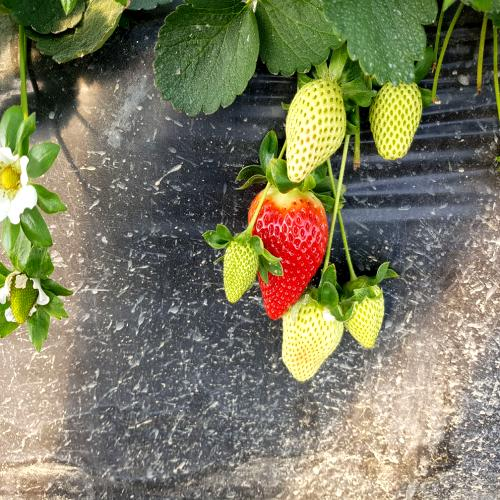ripe: (252, 179, 330, 321)
unripe: (284, 70, 347, 188), (285, 273, 342, 386), (368, 66, 422, 162), (337, 266, 395, 345), (226, 224, 261, 309)
